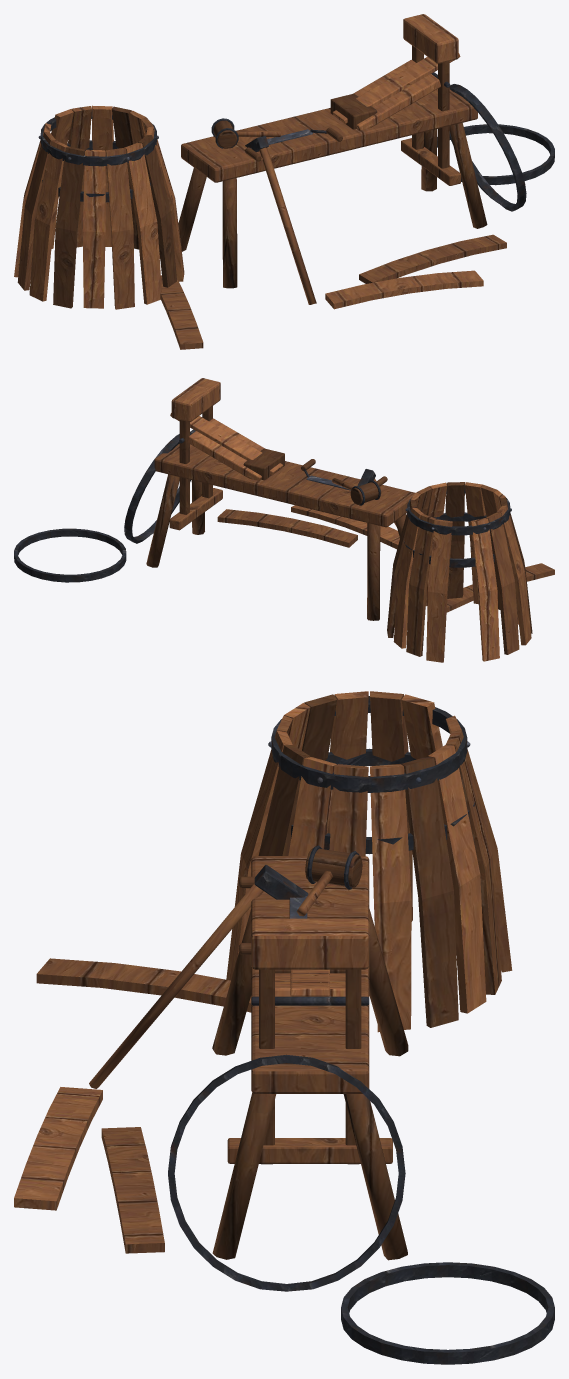
The model's file is rb_cooper_bench.glb.
3 renders of one model, top to bottom at view 1: azimuth 30°, elevation 25°; view 2: azimuth 150°, elevation 25°; view 3: azimuth 270°, elevation 25°, orthographic. The views are drawn at different scales.
Visible parts, largest first — view 1: model; view 2: model; view 3: model.
Part boxes in pixels (x1,y1,x2,y2): model: (14, 14, 554, 349); model: (14, 378, 554, 662); model: (14, 691, 554, 1364).
Size of the model in its own units: 2.68 by 0.87 by 1.38.
6 materials, 6 textured.
